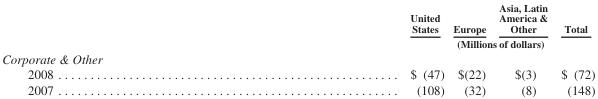table: (1, 1, 594, 96)
table column: (1, 1, 231, 96), (231, 1, 448, 96), (491, 1, 553, 96), (448, 1, 491, 96), (553, 1, 594, 96)
table column header: (1, 1, 594, 50)
table projected row header: (1, 50, 594, 66)
table row: (1, 1, 594, 35), (1, 50, 594, 66), (1, 35, 594, 50), (1, 66, 594, 81), (1, 81, 594, 96)
table spanning cell: (231, 35, 594, 50)
